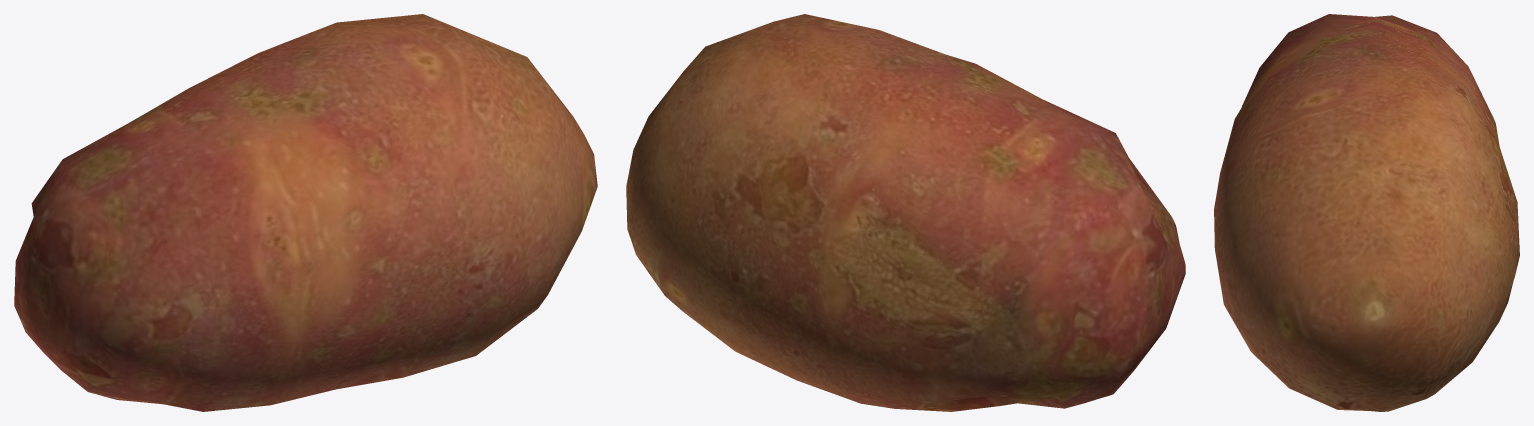
The model's file is A36_Potato_low.fbx.
3 views of the same model, side by side, from view 1: azimuth 30°, elevation 25°; view 2: azimuth 150°, elevation 25°; view 3: azimuth 270°, elevation 25° (orthographic). The views are drawn at different scales.
Parts seen in each view (by area): view 1: A36_Potato_low; view 2: A36_Potato_low; view 3: A36_Potato_low.
Boxes of the visible parts, x1,y1,x2,y2 form: A36_Potato_low: [14, 14, 597, 411]; A36_Potato_low: [626, 14, 1185, 411]; A36_Potato_low: [1214, 14, 1519, 411].
Bounding box in the file's own units: 14.57 × 7.74 × 8.75.
Materials: 1 (1 with a texture image).
